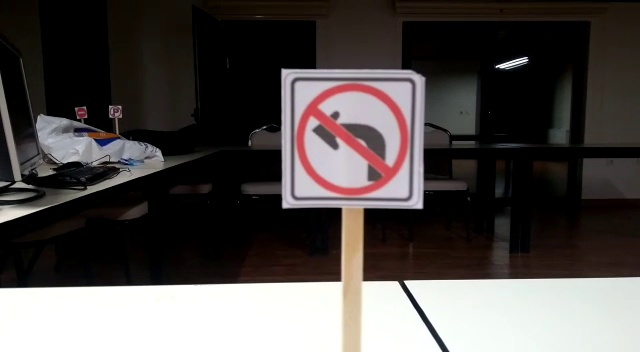sola_donulmez: (286, 78, 410, 202)
